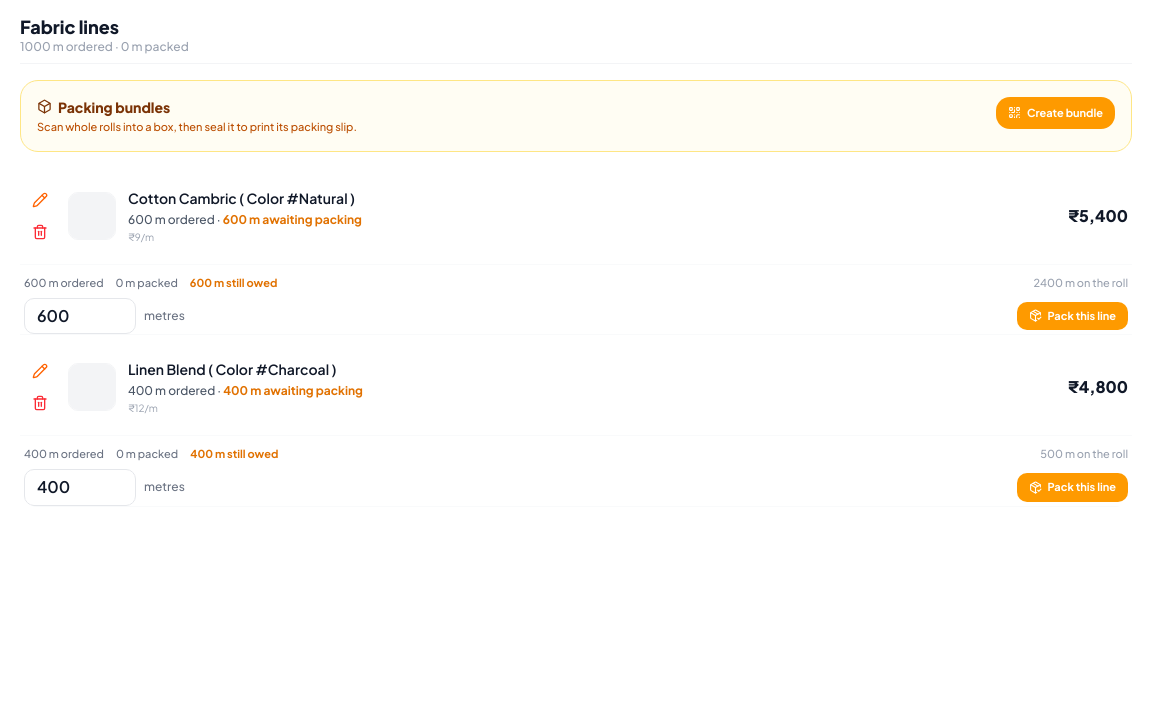
Test case: OrderItemsSection line packing › takes a finished line out of the list and shows it under the bundles
Expected: the number field named "metres of cotton cambric to pack" holds "600", [24,298,136,334]
Step 1. Click the button "Pack this line" below "2400 m on the roll" → (1072,316), box [1017,302,1128,330]
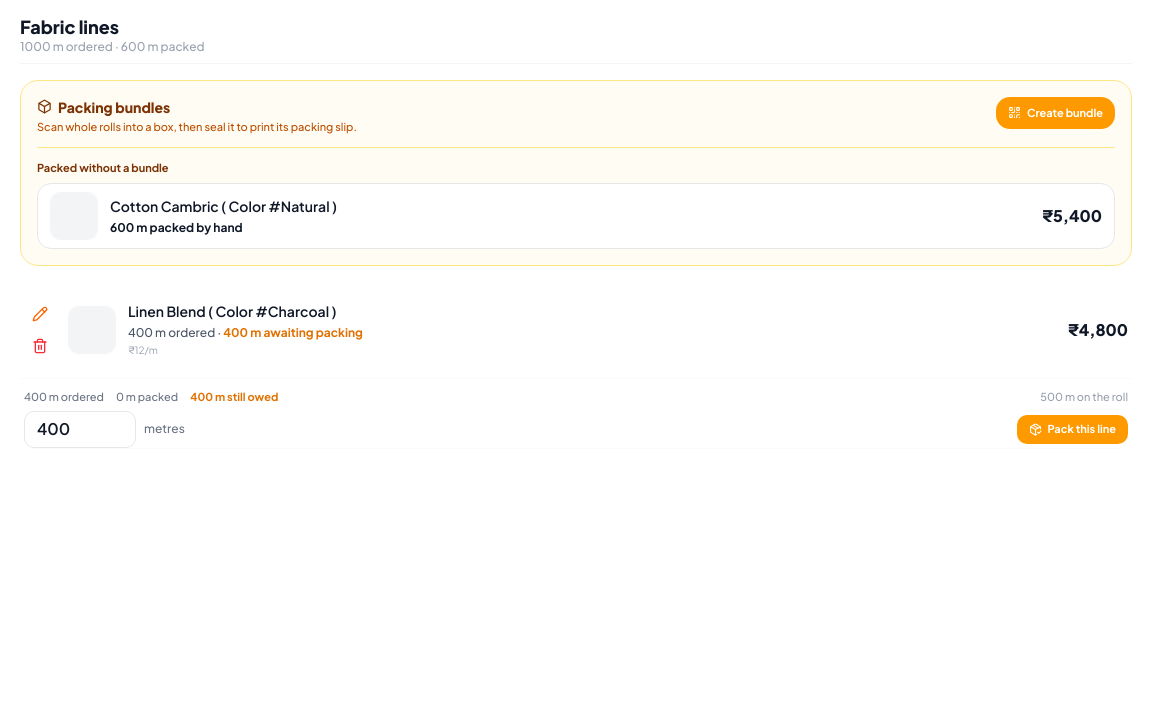
Expected: the number of buttons "Pack this line" is 1, [1017,415,1128,444]
Expected: the text "Packed without a bundle" is shown, [37,161,169,174]
Expected: the text "600 m packed by hand" is shown, [110,220,243,234]
